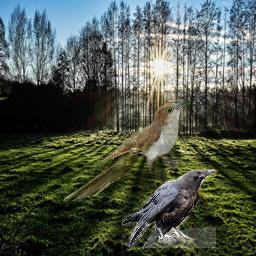Crow: (122, 169, 216, 248)
Cuckoo: (63, 100, 191, 202)
